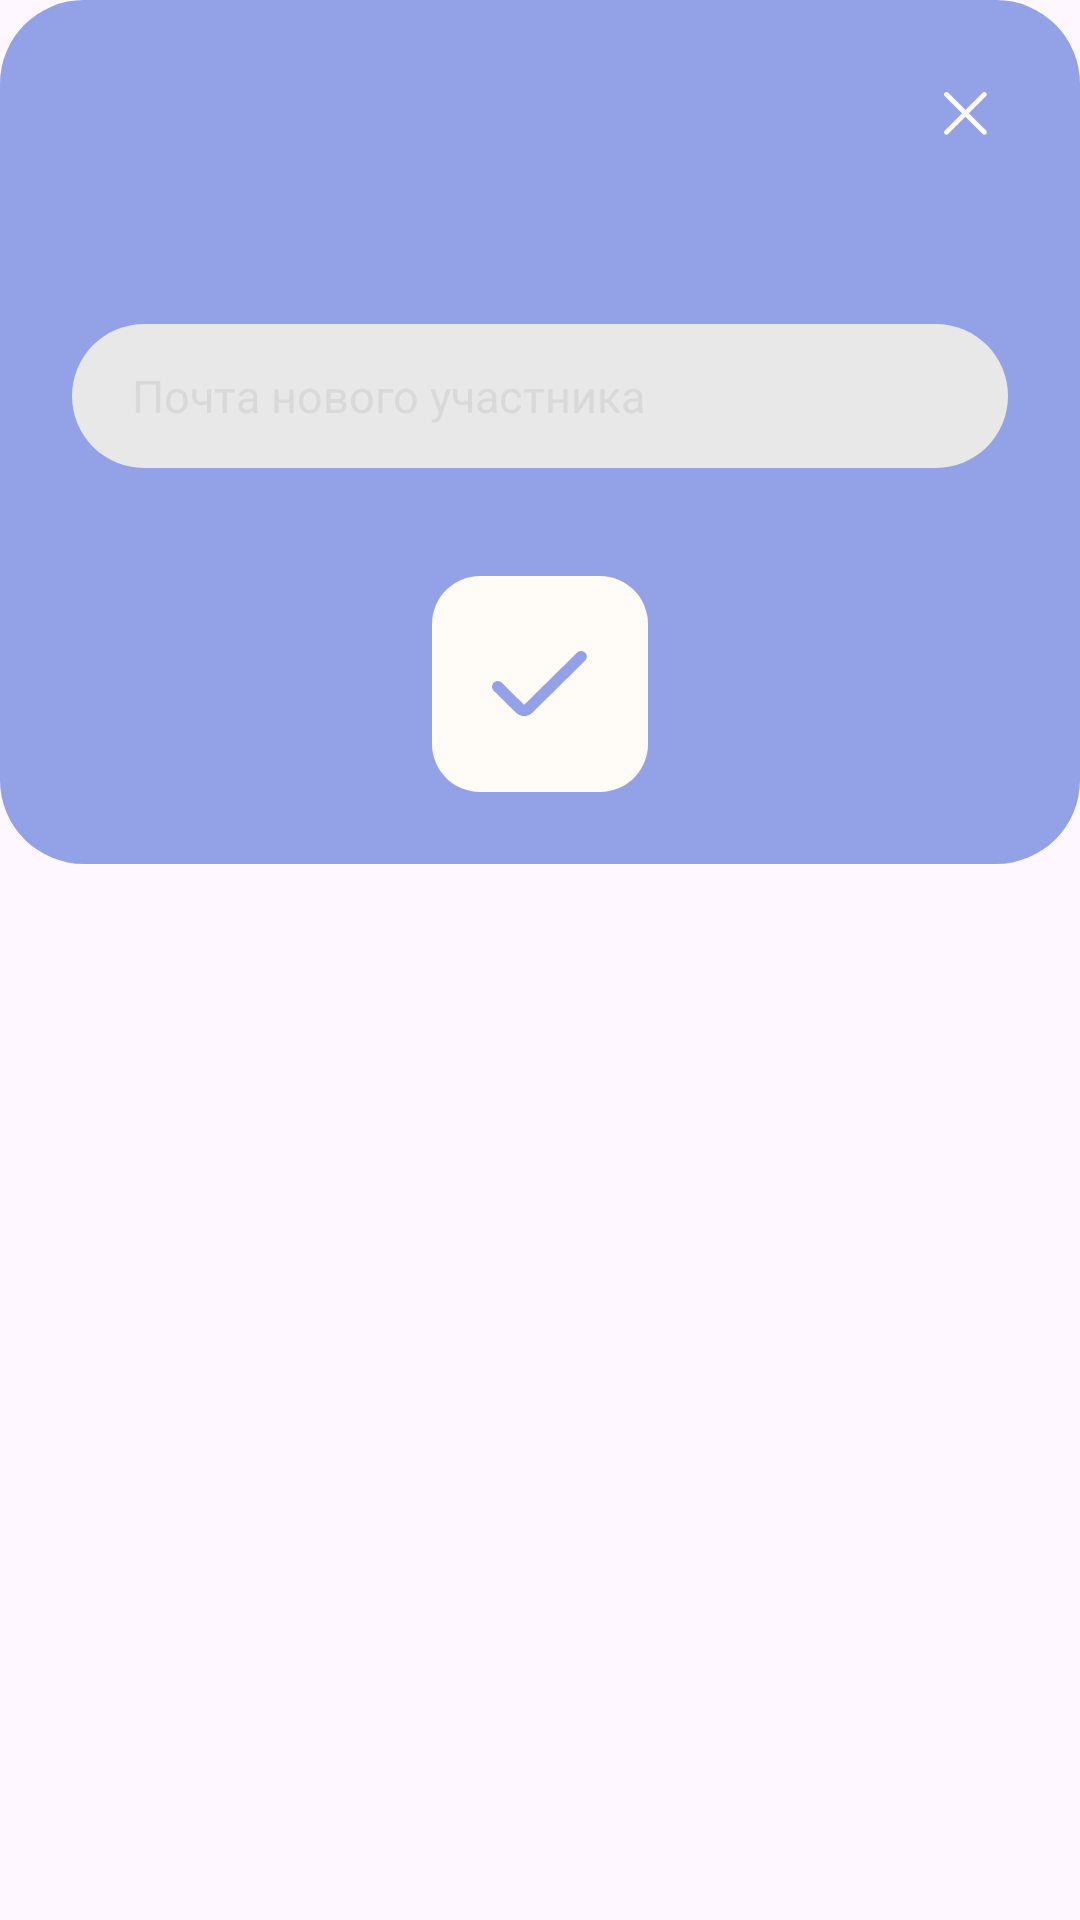

Icons on this 1080px x 1920px Android screen, each with its box as (x1=x1, y1=y1, x2=x2, y2=y2):
check: (x1=492, y1=651, x2=587, y2=716)
close: (x1=944, y1=92, x2=987, y2=135)
